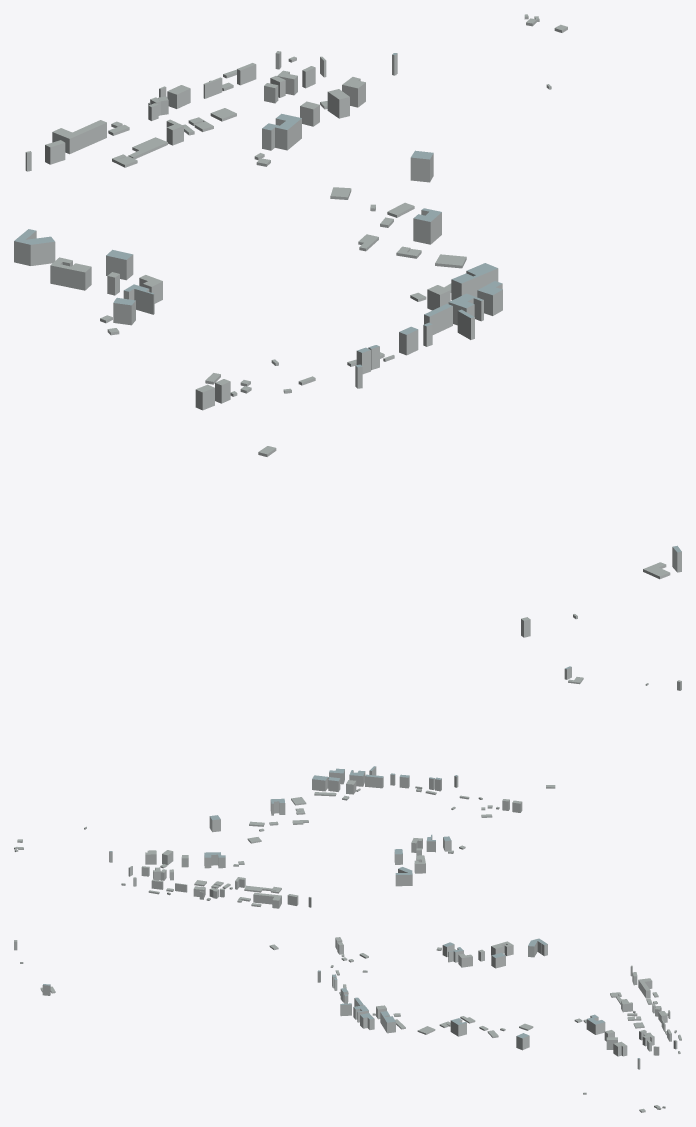
Rendered from far.glb.
3 views of the same model, one above another, from view 1: azimuth 30°, elevation 25°; view 2: azimuth 150°, elevation 25°; view 3: azimuth 270°, elevation 25° (orthographic). The views are drawn at different scales.
Size of the model in its own units: 630 by 20.7 by 1064.
